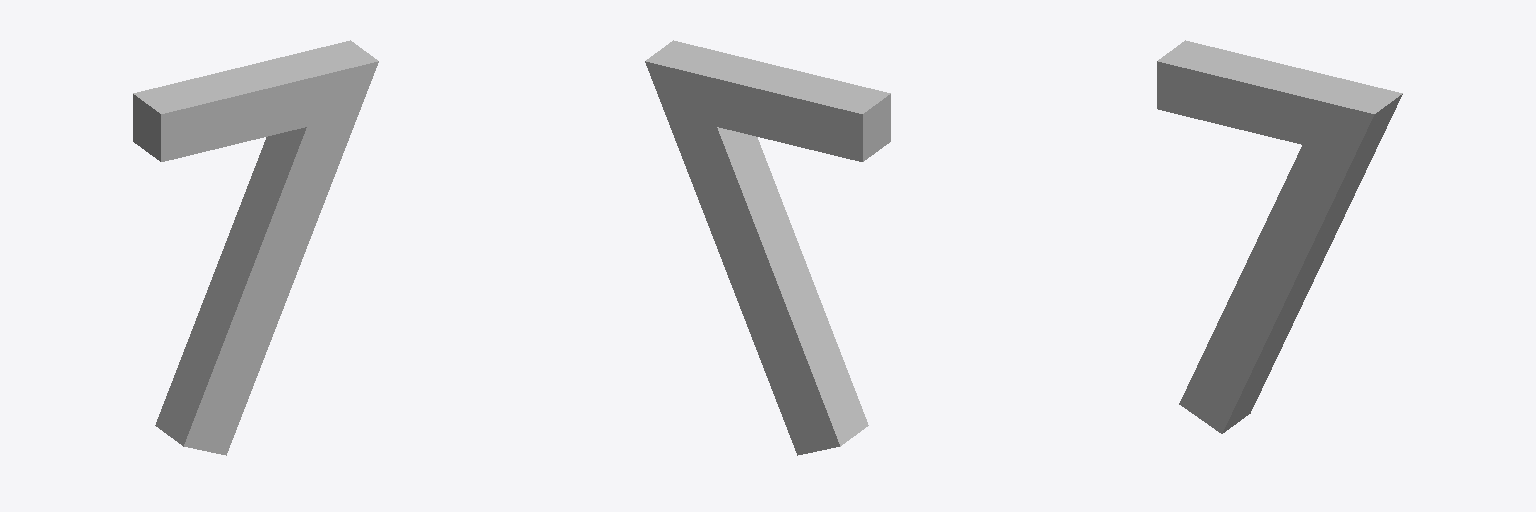
3 renders of one model, left to right at view 1: azimuth 30°, elevation 25°; view 2: azimuth 150°, elevation 25°; view 3: azimuth 330°, elevation 25°, orthographic.
Parts seen in each view (by area): view 1: Text.006_CUText.006; view 2: Text.006_CUText.006; view 3: Text.006_CUText.006.
Boxes of the visible parts, <box> form: Text.006_CUText.006: <box>133,40,378,455</box>; Text.006_CUText.006: <box>645,40,890,455</box>; Text.006_CUText.006: <box>1157,40,1402,433</box>.
Size of the model in its own units: 0.441 by 0.691 by 0.1.